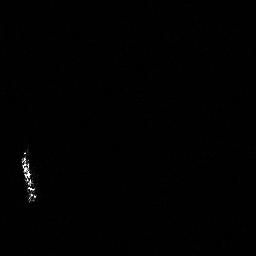ship: (16, 146, 42, 208)
